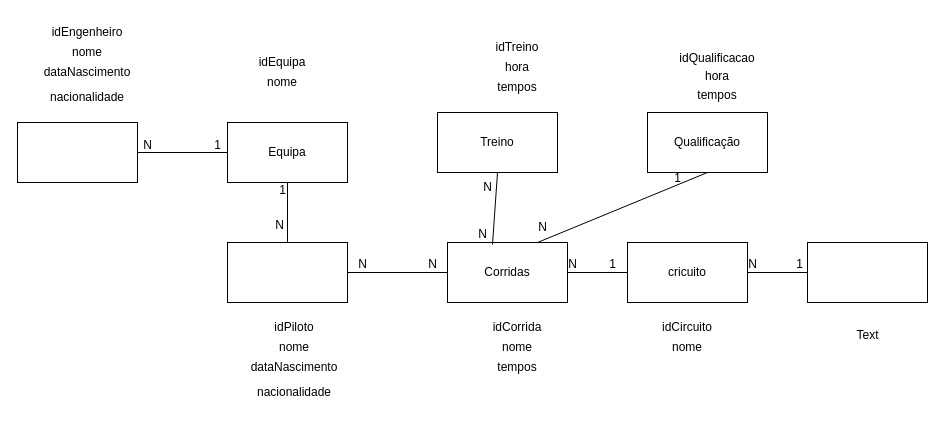
Some shapes in this 945 by 424 pixel diagram are drawn without their labels. The centre of each missing label's shape, as x and y in pixels:
"Engenheiro" belongs at [77,152].
"País" belongs at [867,272].
"Piloto" belongs at [287,272].
